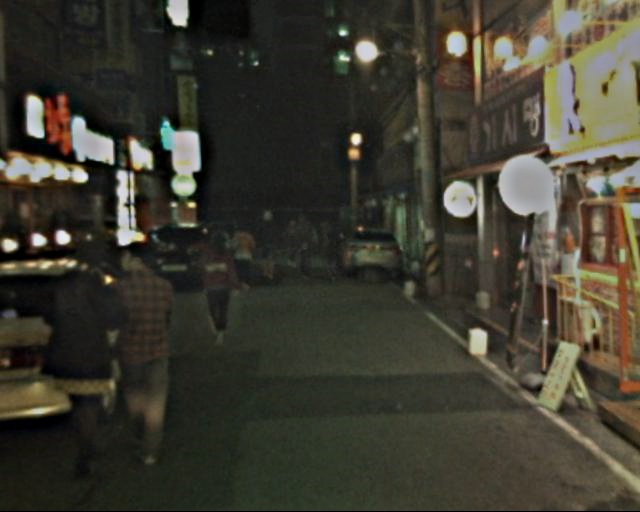person: (44, 231, 121, 480), (104, 237, 185, 473), (194, 222, 243, 350), (229, 216, 263, 293), (254, 207, 285, 285), (290, 211, 315, 284), (317, 220, 342, 287)
